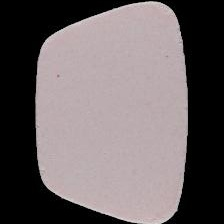68462-102: (0, 0, 224, 224)
